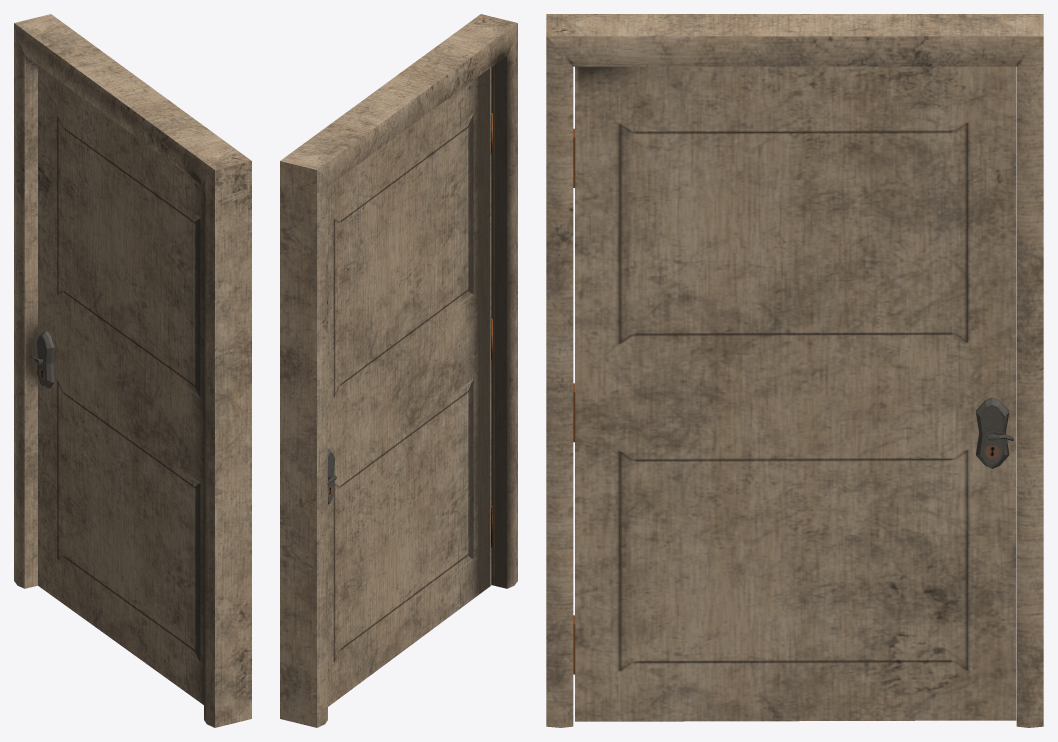
Rendered from damage_door.glb.
The picture shows the model from 3 angles, left to right: view 1: azimuth 30°, elevation 25°; view 2: azimuth 150°, elevation 25°; view 3: azimuth 270°, elevation 25°; orthographic projection. The views are drawn at different scales.
Parts seen in each view (by area): view 1: Damage_Door_Door, Damage_Door_Frame; view 2: Damage_Door_Door, Damage_Door_Frame; view 3: Damage_Door_Door, Damage_Door_Frame.
Boxes of the visible parts, x1,y1,x2,y2 form: Damage_Door_Door: (37, 65, 203, 704); Damage_Door_Frame: (14, 14, 251, 727); Damage_Door_Door: (328, 67, 492, 706); Damage_Door_Frame: (280, 14, 517, 727); Damage_Door_Door: (573, 66, 1016, 721); Damage_Door_Frame: (546, 14, 1043, 727).
Bounding box in the file's own units: 15.92 × 205 × 134.
1 material, 1 textured.
